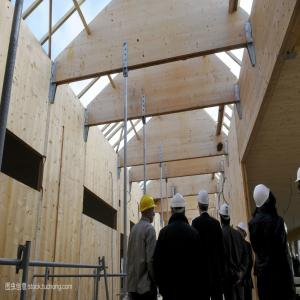white: (254, 183, 274, 213), (171, 193, 187, 218), (219, 203, 234, 227), (198, 190, 210, 215), (236, 222, 249, 242)
yellow: (139, 194, 156, 224)
